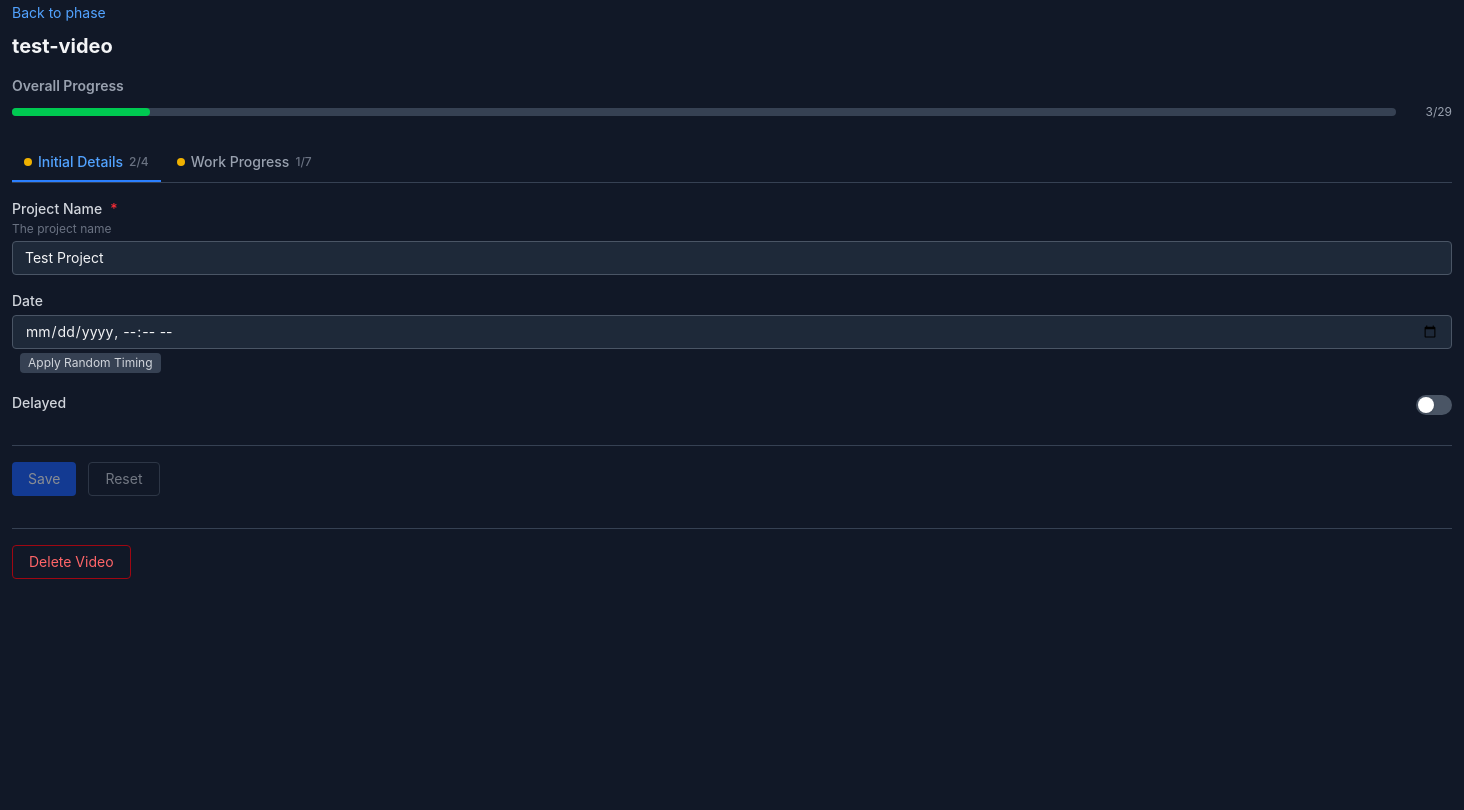
it: VideoDetail › switches tabs when clicked
Expected: the heading "test-video" is shown, [12,34,113,58]
Click the tab "Work Progress 1/7" at (244,163), box [165,144,324,182]
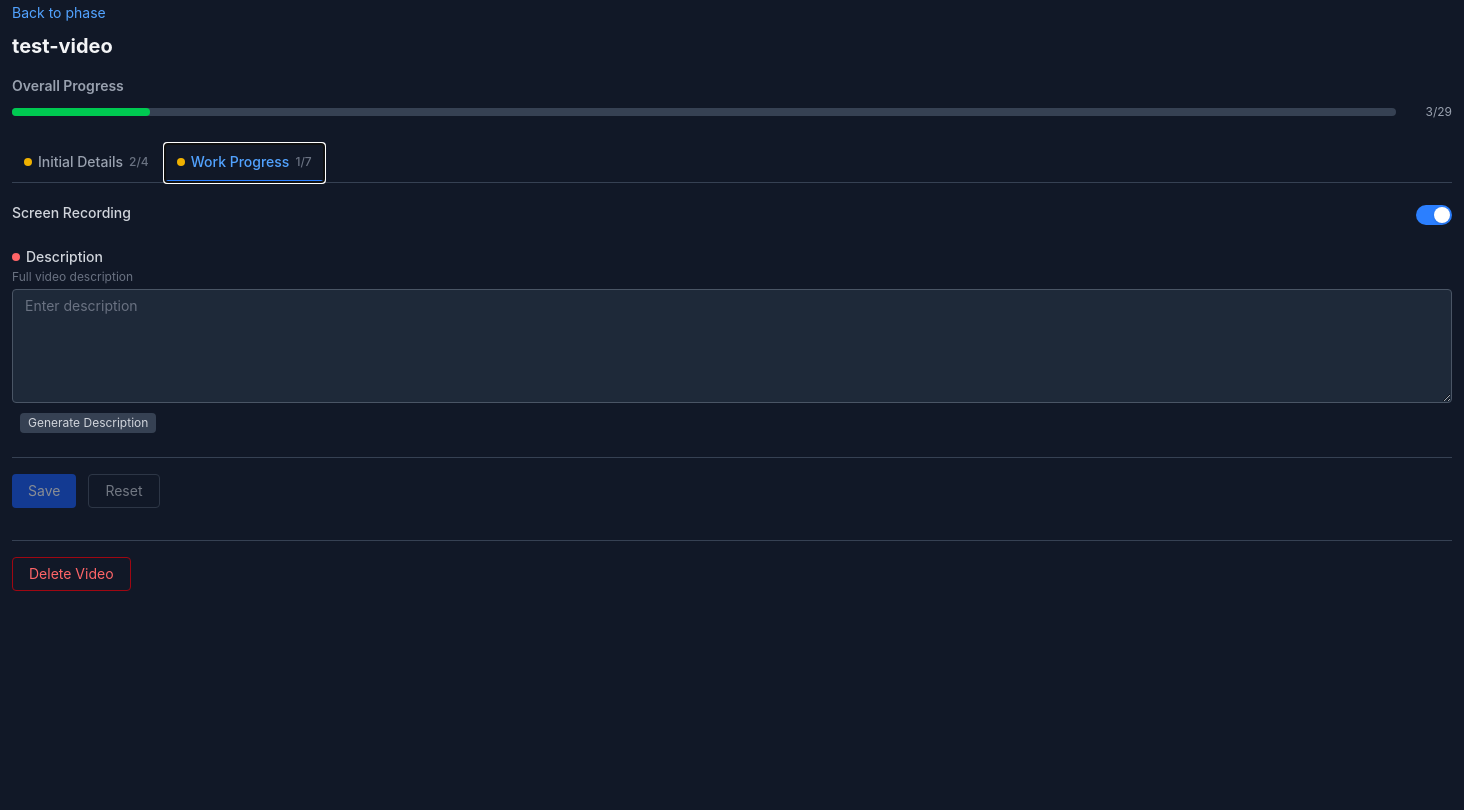
Expected: the text "Screen Recording" is shown, [12,203,131,223]
